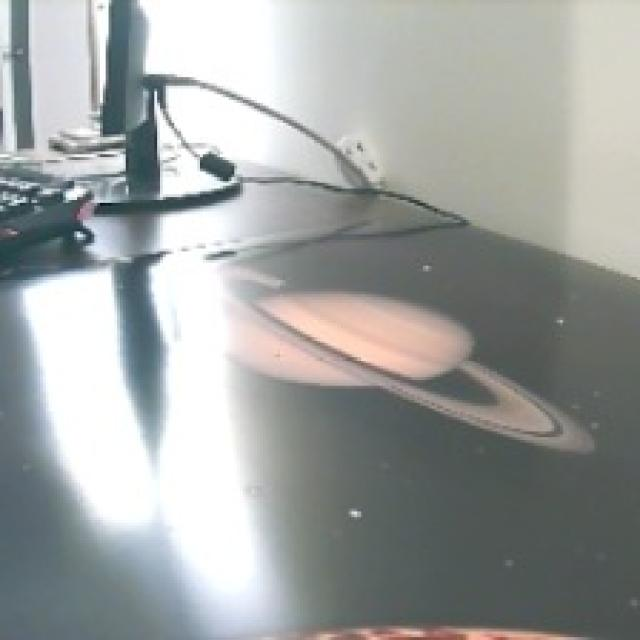Saturn: (205, 264, 596, 454)
